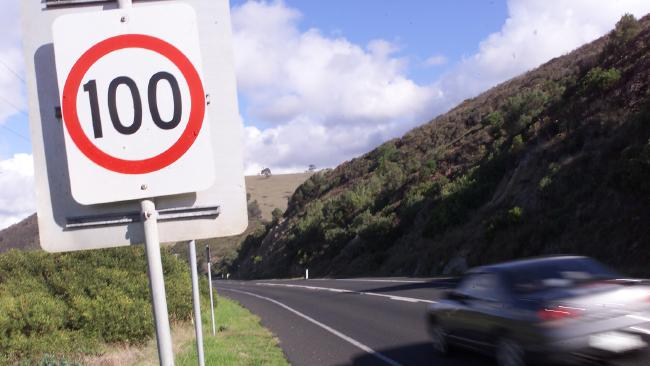Speed_limit_100km: (63, 33, 205, 173)
